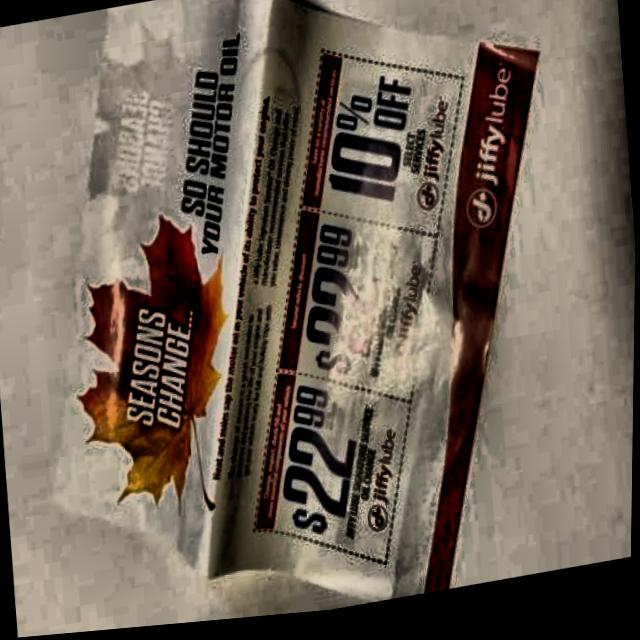Paper: (18, 0, 585, 638)
